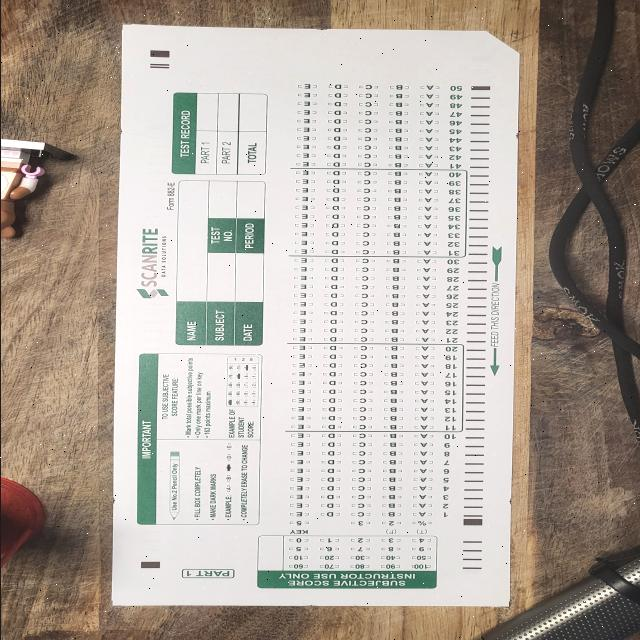scantron: (110, 24, 518, 608)
